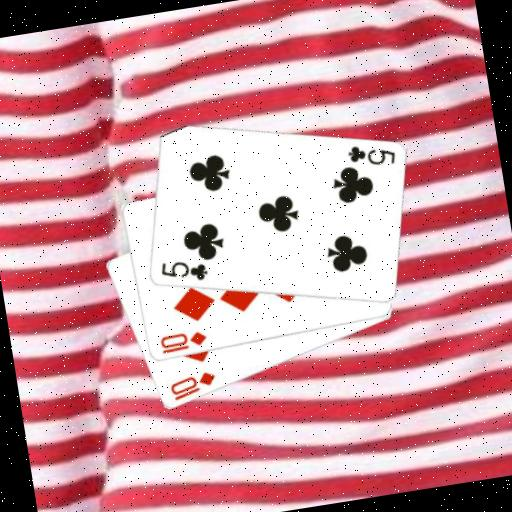10D: (165, 367, 219, 403), (156, 326, 209, 357)
5C: (342, 137, 397, 172), (156, 253, 210, 288)
